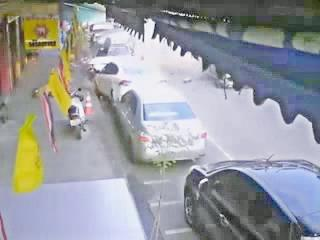Car: (184, 155, 320, 240), (119, 85, 208, 162), (94, 62, 166, 104), (89, 43, 143, 77), (91, 22, 135, 47)
Minor Accident: (89, 43, 165, 105)
Motor: (65, 86, 89, 139)
